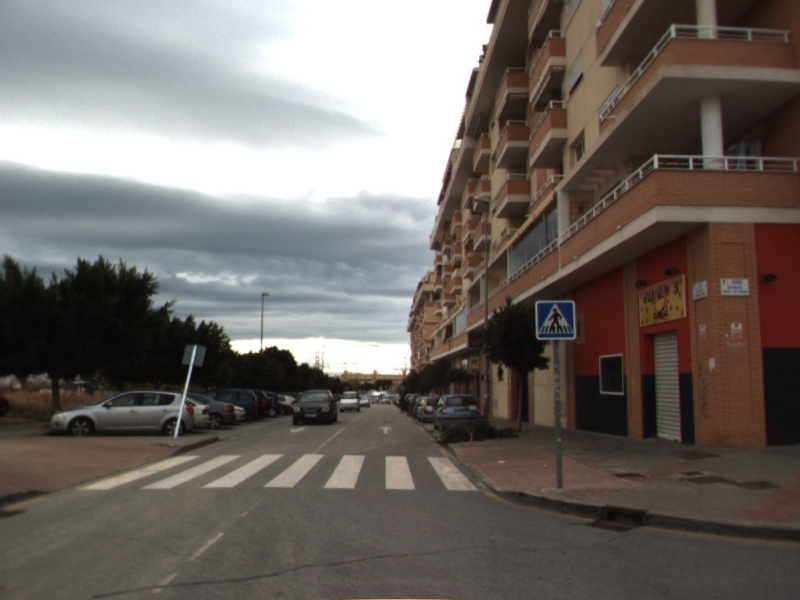STRAIGHT: (376, 424, 394, 436)
